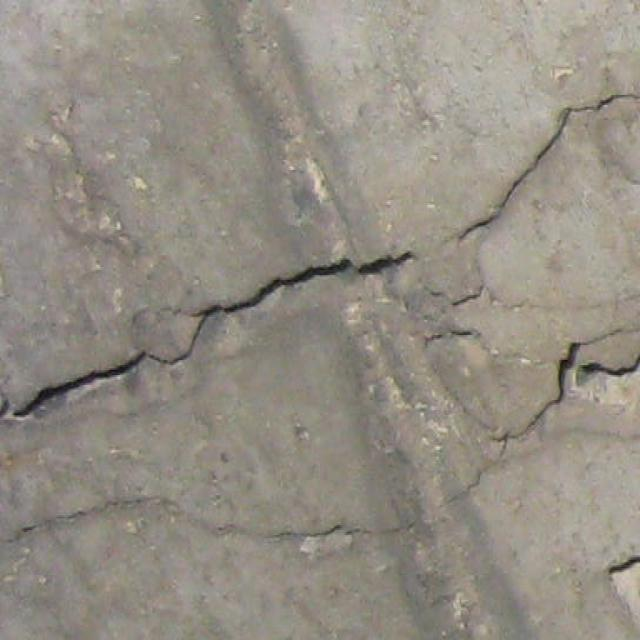Network: (6, 87, 640, 553)
Rippled: (601, 555, 640, 634)
